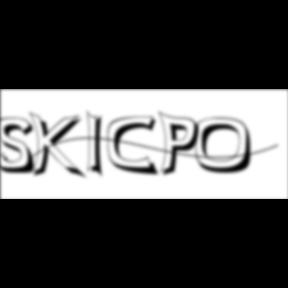C: (108, 115, 162, 178)
K: (30, 110, 88, 182)
O: (194, 117, 260, 176)
P: (158, 110, 206, 180)
S: (0, 117, 42, 176)
l: (88, 108, 110, 182)
